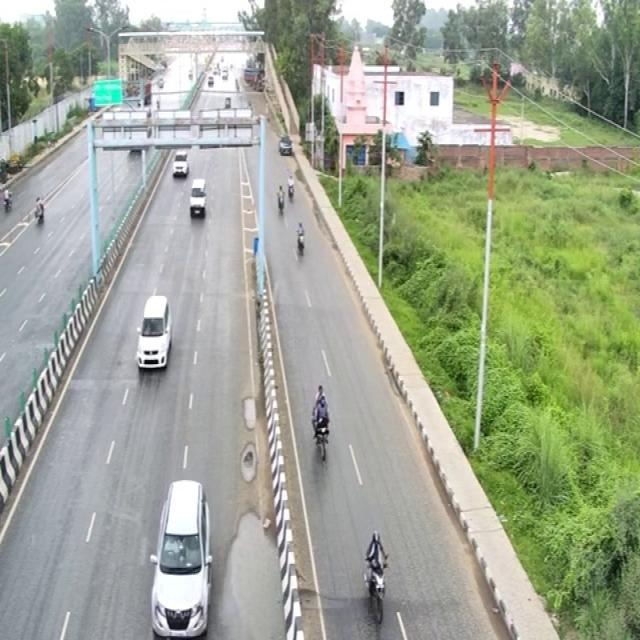car: (148, 468, 212, 639), (132, 288, 178, 375), (184, 172, 211, 223), (168, 147, 192, 180)
